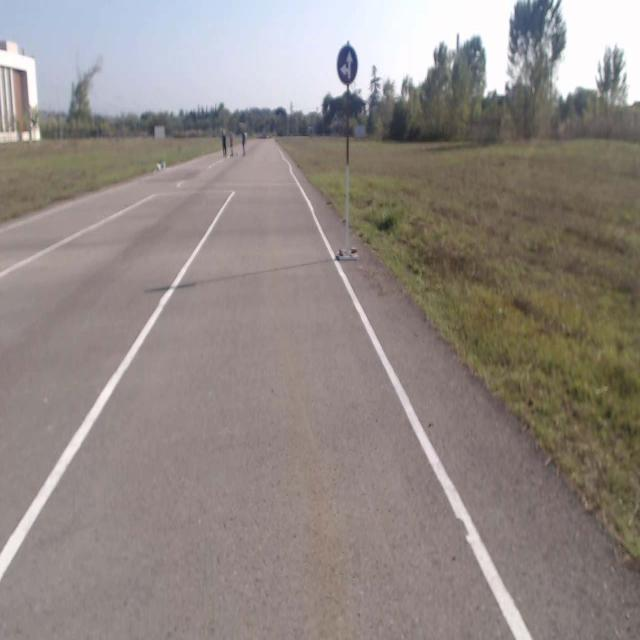ilerisol: (337, 44, 357, 84)
